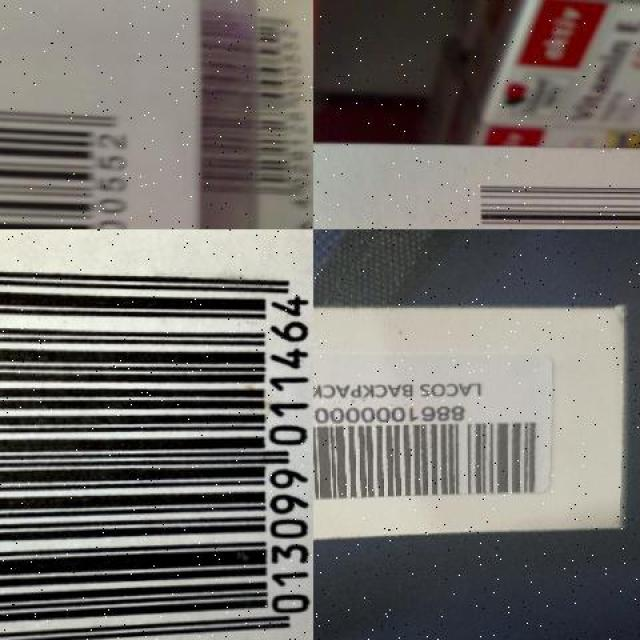Barcode: (0, 233, 313, 639), (313, 398, 551, 510), (0, 79, 160, 229), (464, 163, 640, 229)
